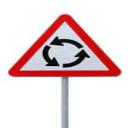Rotatoria: (35, 33, 93, 74)
